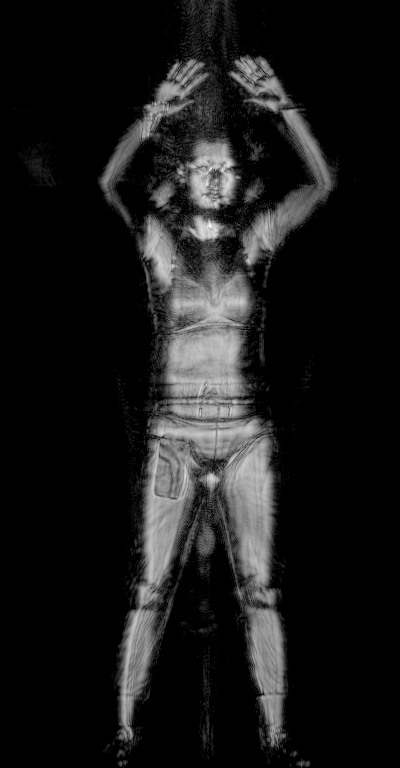head: (174, 137, 249, 221)
others: (148, 431, 190, 501), (136, 99, 167, 139)
person: (96, 54, 333, 768)
